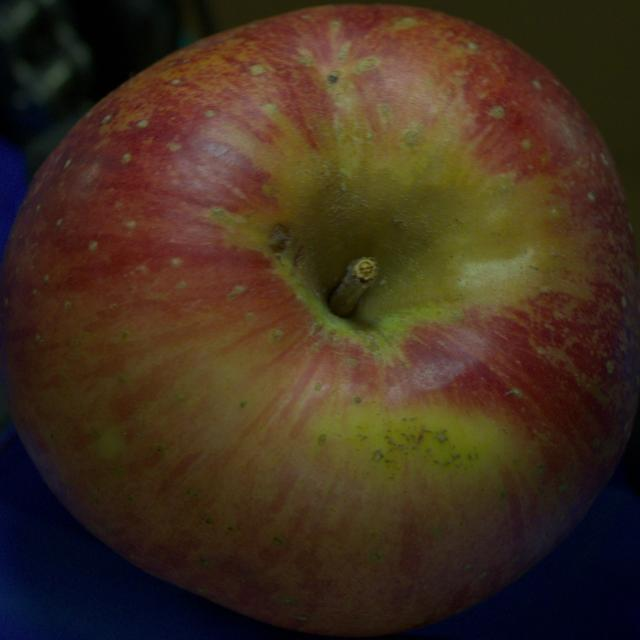apple: (0, 6, 639, 636)
pest: (269, 224, 290, 254), (435, 430, 448, 442), (374, 450, 383, 461), (328, 74, 338, 83)
